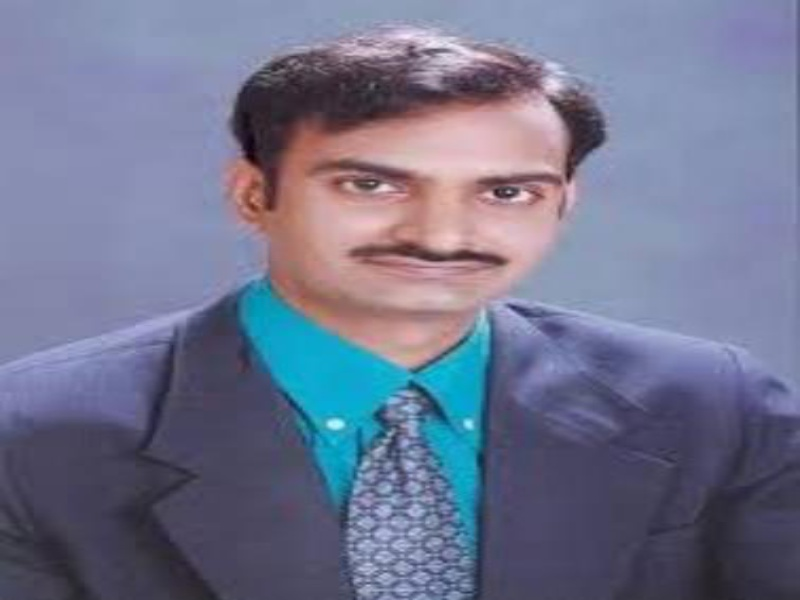TsisyArotava: (234, 52, 591, 330)
